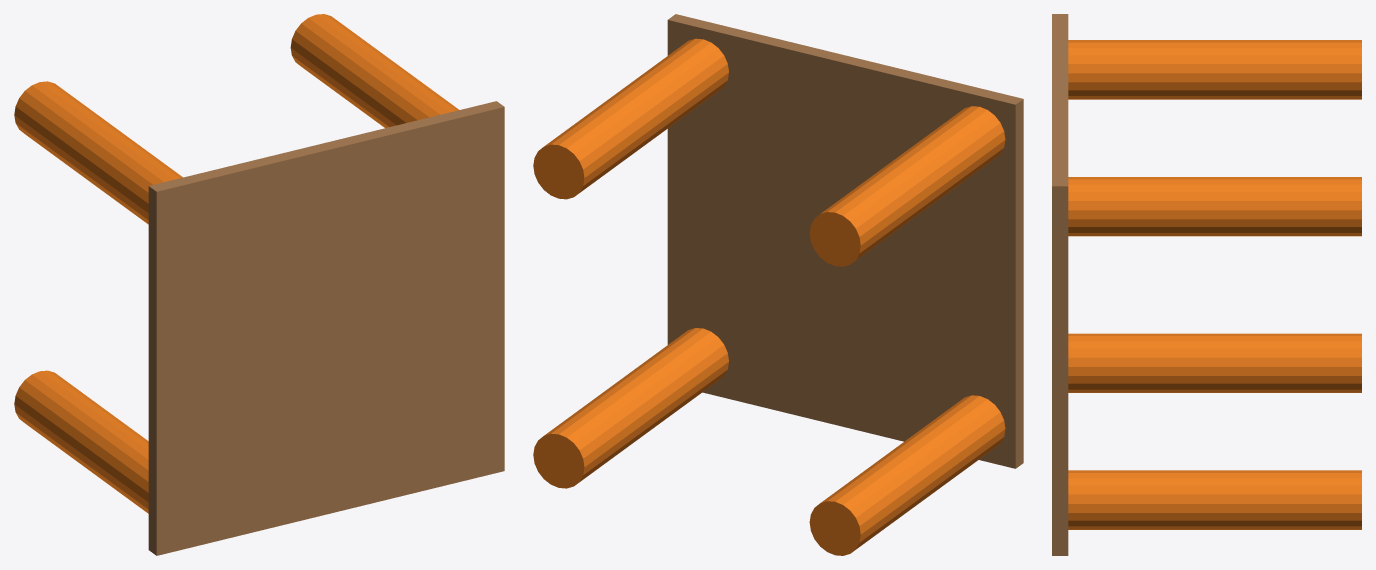
File: tinker.obj
3 renders of one model, left to right at view 1: azimuth 30°, elevation 25°; view 2: azimuth 150°, elevation 25°; view 3: azimuth 270°, elevation 25°, orthographic.
Parts seen in each view (by area): view 1: group_0_11107152, group_0_16089887; view 2: group_0_11107152, group_0_16089887; view 3: group_0_16089887, group_0_11107152.
Part boxes in pixels (box(x1,y1,x2,y2)): group_0_11107152: box(148, 101, 504, 555); group_0_16089887: box(14, 14, 458, 513); group_0_11107152: box(667, 14, 1023, 468); group_0_16089887: box(533, 38, 1005, 555); group_0_16089887: box(1068, 40, 1361, 529); group_0_11107152: box(1052, 14, 1068, 555).
Size of the model in its own units: 25 by 25 by 19.
